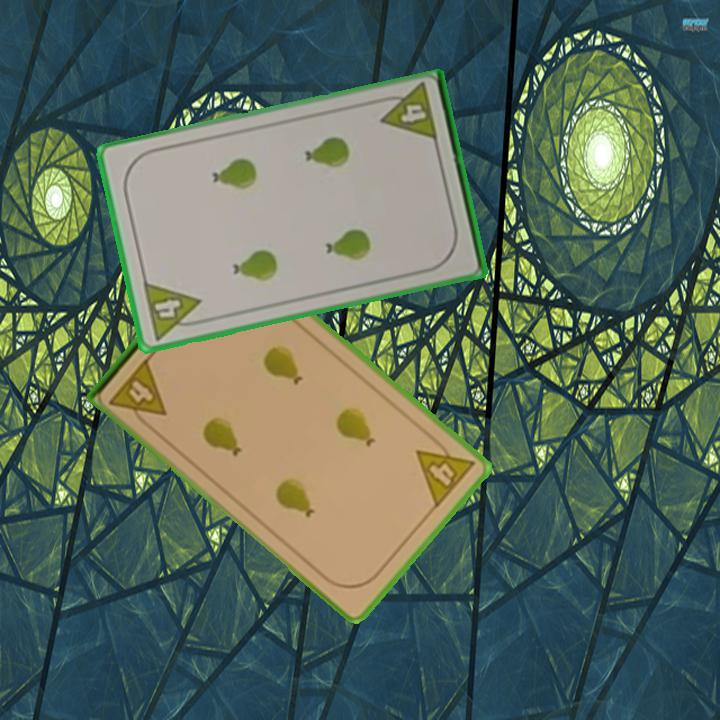4p: (412, 431, 479, 511), (105, 354, 170, 433), (139, 279, 208, 343), (374, 81, 441, 145)
